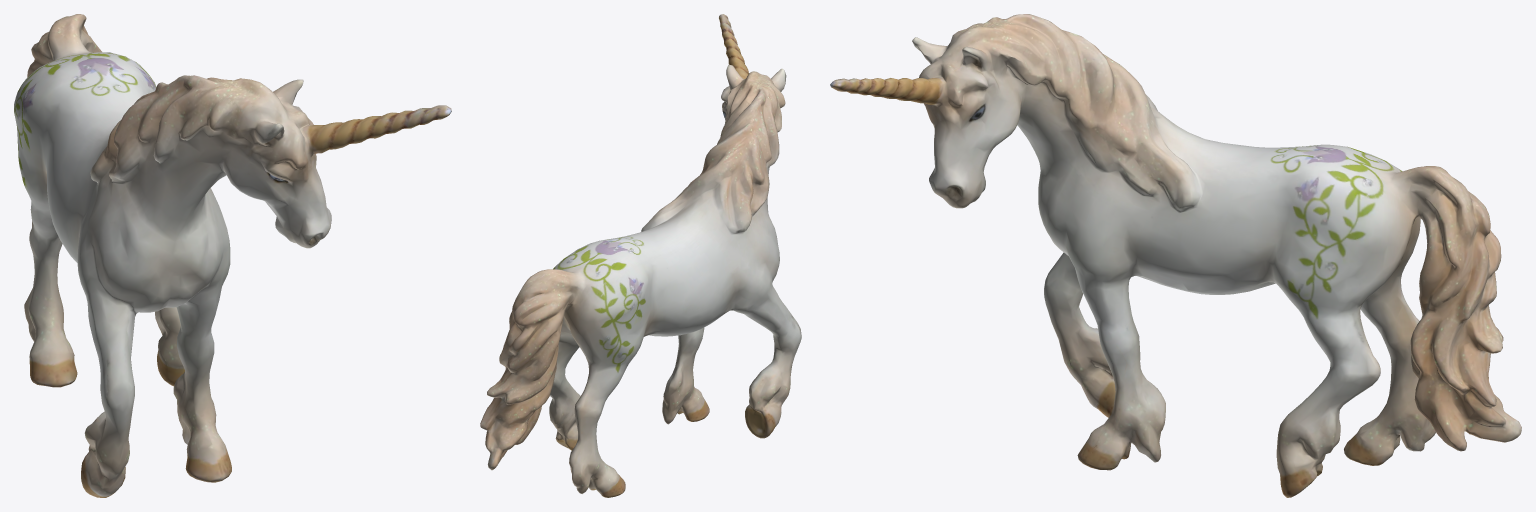
File: Schleich_S_Bayala_Unicorn_70432.glb
3 views of the same model, side by side, from view 1: azimuth 30°, elevation 25°; view 2: azimuth 150°, elevation 25°; view 3: azimuth 270°, elevation 25° (orthographic). The views are drawn at different scales.
Parts seen in each view (by area): view 1: model.obj; view 2: model.obj; view 3: model.obj.
Part boxes in pixels (box(x1,y1,x2,y2)): model.obj: box(14, 14, 451, 497); model.obj: box(480, 14, 801, 497); model.obj: box(830, 14, 1521, 497).
Bounding box in the file's own units: 0.3693 × 0.6869 × 1.
Materials: 1 (1 with a texture image).
